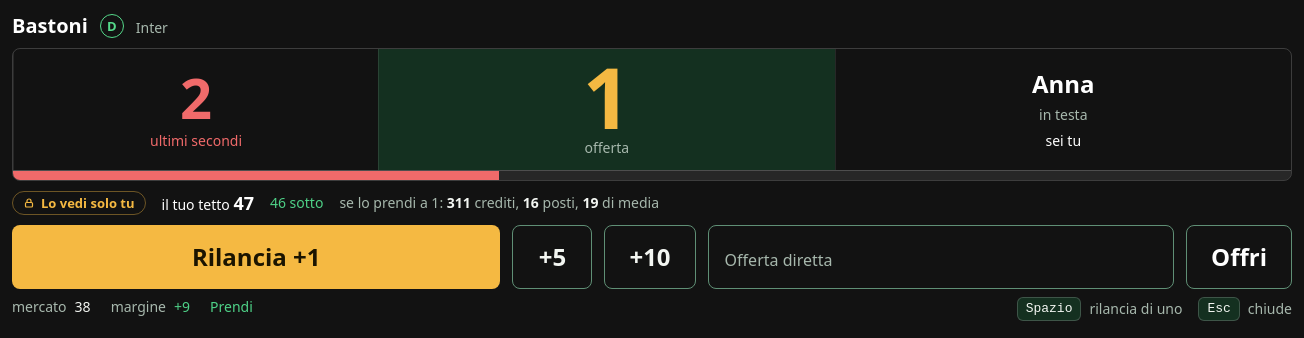
it: BidderDialog › l'offerta diretta porta il prezzo al numero scritto e fa ripartire il conto
Type "20" into the number field labelled "Offerta diretta" at (941, 257), box top-left (708, 225), bottom-right (1174, 289)
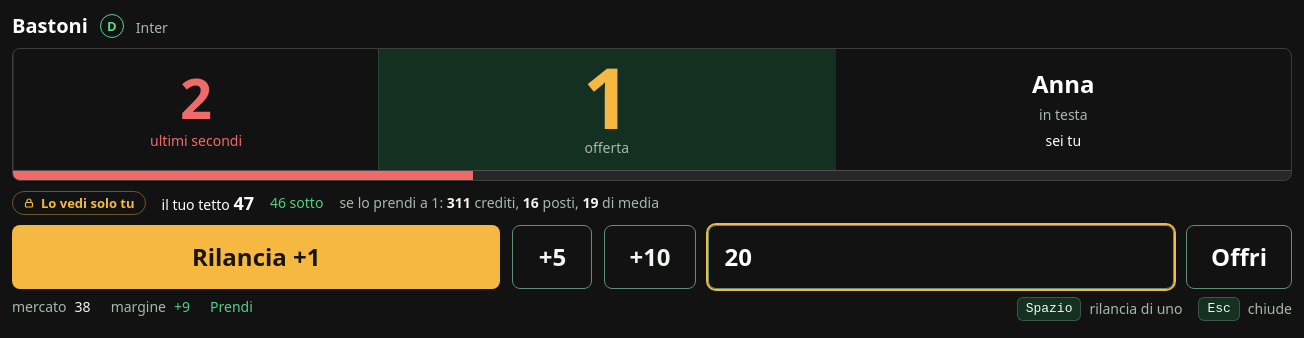
Click the button "Offri" at (1239, 257), box top-left (1186, 225), bottom-right (1292, 289)
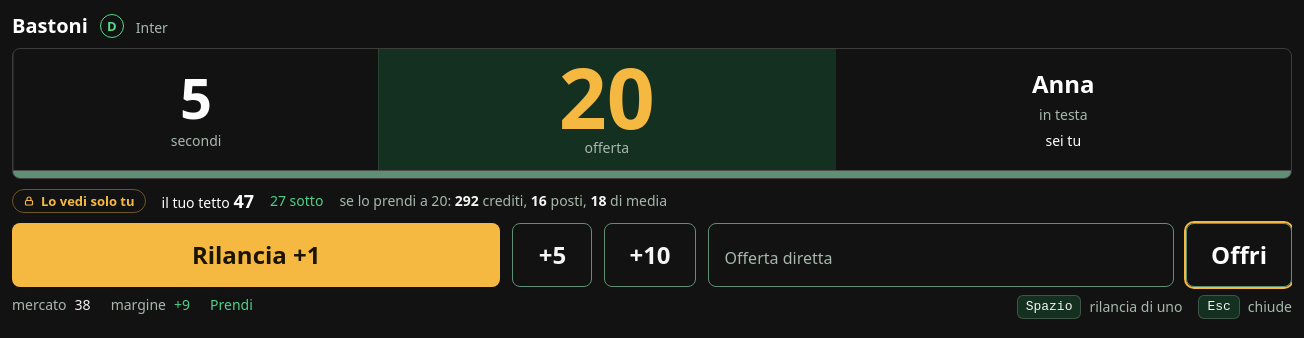
Expected: the text with test id "bidder-price" reads "20", top-left (559, 48), bottom-right (655, 154)
Expected: the text with test id "bidder-remaining" reads "5", top-left (180, 59), bottom-right (212, 135)
Expected: the number field labelled "Offerta diretta" is not empty, top-left (708, 223), bottom-right (1174, 287)
